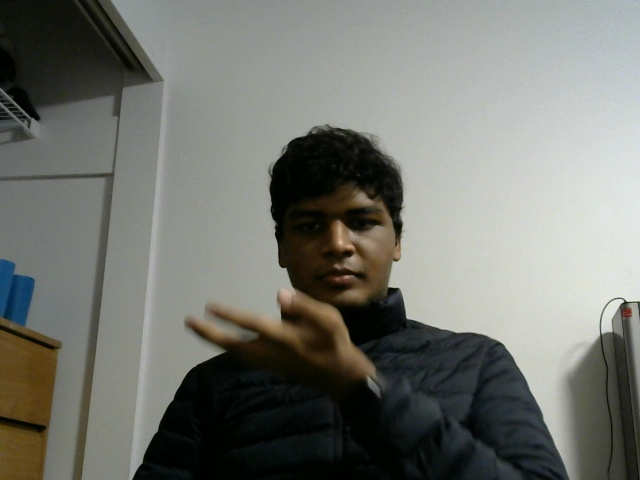Speech: (184, 281, 375, 405)
